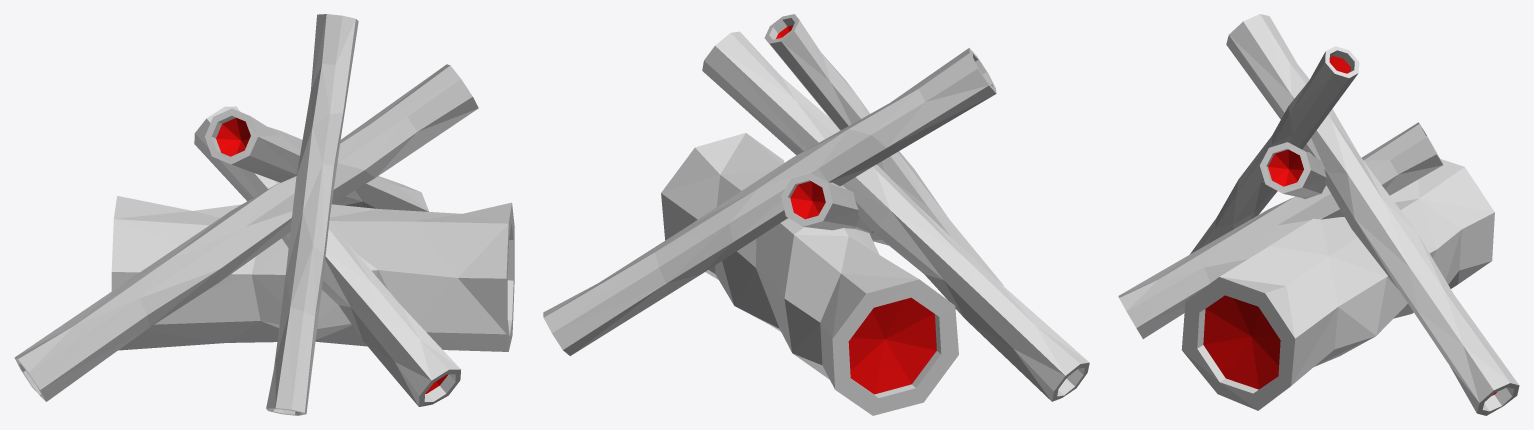
Rendered from fogata_1 (1).fbx.
3 views of the same model, side by side, from view 1: azimuth 30°, elevation 25°; view 2: azimuth 150°, elevation 25°; view 3: azimuth 270°, elevation 25° (orthographic). The views are drawn at different scales.
Parts seen in each view (by area): view 1: Cylinder.005, Cylinder.003, Cylinder.004, Cylinder.001, Cylinder.002; view 2: Cylinder.005, Cylinder.002, Cylinder.003, Cylinder.004, Cylinder.001; view 3: Cylinder.005, Cylinder.002, Cylinder.001, Cylinder.004, Cylinder.003.
Part boxes in pixels (x1,y1,x2,y2): Cylinder.005: [111, 196, 514, 351]; Cylinder.003: [14, 64, 478, 401]; Cylinder.004: [266, 14, 358, 415]; Cylinder.001: [194, 106, 461, 406]; Cylinder.002: [205, 108, 428, 211]; Cylinder.005: [661, 133, 958, 415]; Cylinder.002: [543, 48, 996, 355]; Cylinder.003: [702, 31, 1089, 401]; Cylinder.004: [764, 14, 1003, 285]; Cylinder.001: [781, 173, 888, 245]; Cylinder.005: [1181, 159, 1494, 410]; Cylinder.002: [1226, 14, 1519, 415]; Cylinder.001: [1118, 122, 1442, 338]; Cylinder.004: [1190, 46, 1359, 254]; Cylinder.003: [1259, 142, 1326, 199].
Bounding box in the file's own units: 750 × 489 × 588.
